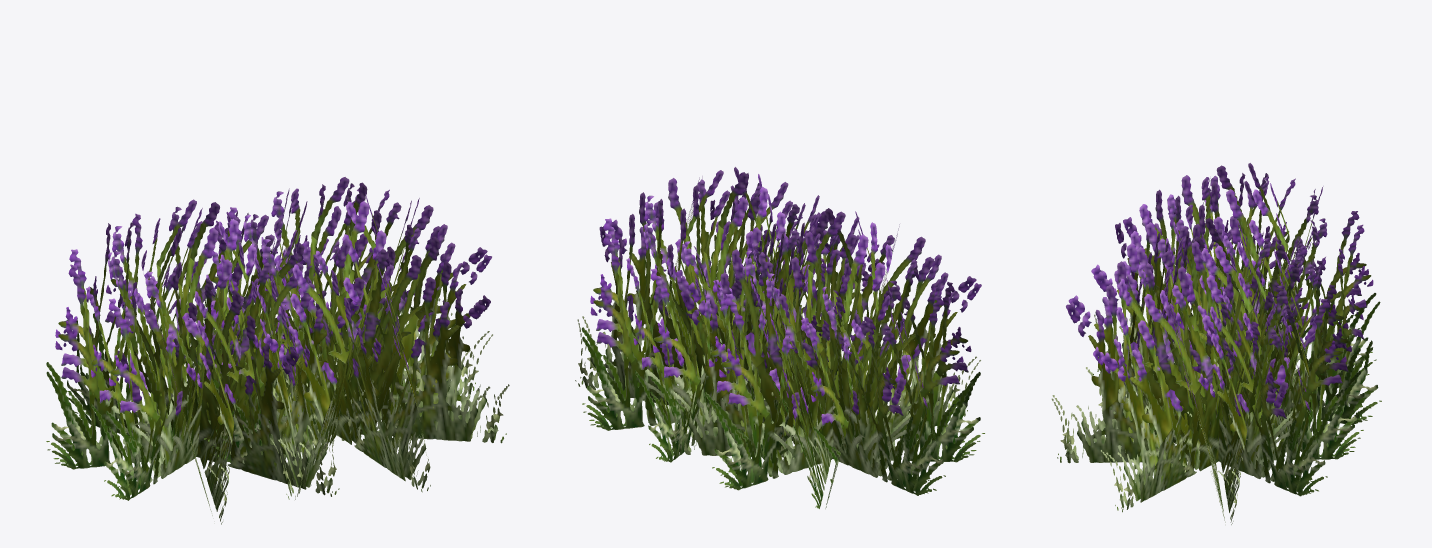
File: lavender_bush_01.dae
3 views of the same model, side by side, from view 1: azimuth 30°, elevation 25°; view 2: azimuth 150°, elevation 25°; view 3: azimuth 270°, elevation 25° (orthographic). The views are drawn at different scales.
Parts seen in each view (by area): view 1: lavender_bush_01; view 2: lavender_bush_01; view 3: lavender_bush_01.
Boxes of the visible parts, x1,y1,x2,y2 form: lavender_bush_01: (46,177,509,524); lavender_bush_01: (575,167,984,508); lavender_bush_01: (1051,163,1381,524).
Size of the model in its own units: 4.95 by 3.82 by 3.59.
